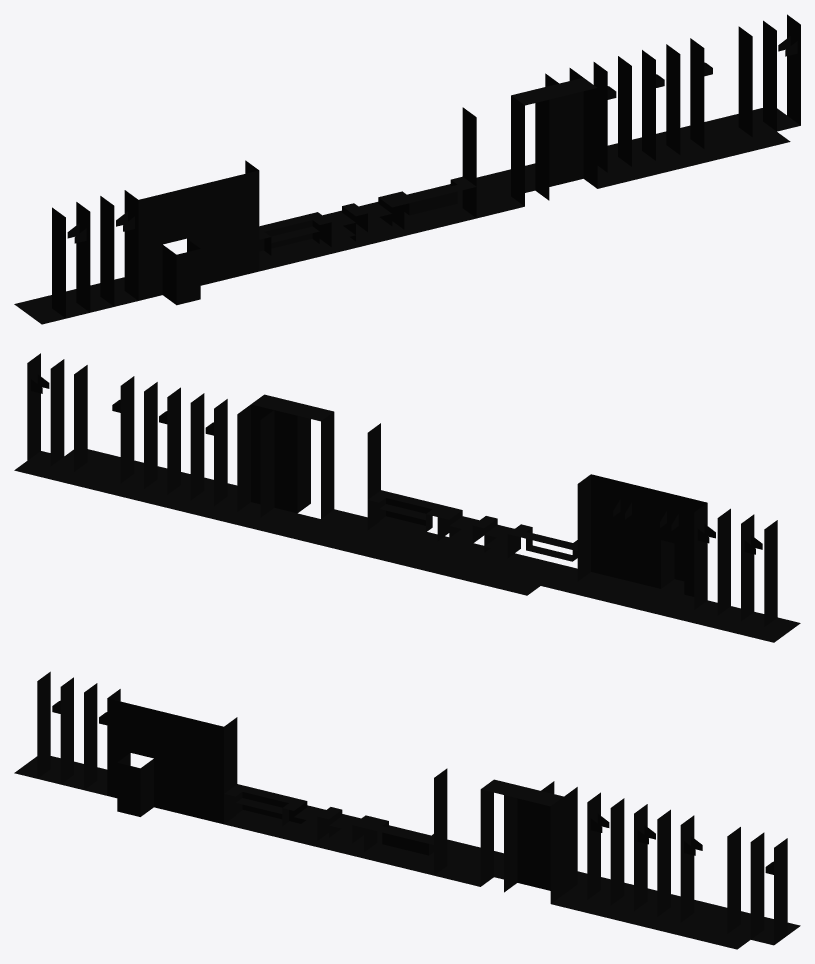
Rendered from catalog.obj.
The picture shows the model from 3 angles, top to bottom: view 1: azimuth 30°, elevation 25°; view 2: azimuth 150°, elevation 25°; view 3: azimuth 330°, elevation 25°; orthographic projection. The views are drawn at different scales.
Visible parts, largest first — view 1: cell_9_0, cell_27_0, cell_26_0, cell_10_0, cell_23_0, cell_24_0, cell_2_1, cell_25_0, cell_30_0, cell_3_1, cell_12_0, cell_31_0 (+18 smaller); view 2: cell_23_0, cell_10_0, cell_26_0, cell_24_0, cell_25_0, cell_27_0, cell_3_1, cell_31_0, cell_12_0, cell_7_1, cell_1_1, cell_2_1 (+20 smaller); view 3: cell_10_0, cell_23_0, cell_26_0, cell_9_0, cell_24_0, cell_25_0, cell_27_0, cell_3_1, cell_0_1, cell_6_1, cell_1_1, cell_7_1 (+18 smaller).
Boxes of the visible parts, x1,y1,x2,y2 form: cell_9_0: (559,77,597,188); cell_27_0: (124,190,162,300); cell_26_0: (162,188,200,305); cell_10_0: (535,83,572,200); cell_23_0: (235,160,259,277); cell_24_0: (211,176,234,283); cell_2_1: (715,26,752,143); cell_25_0: (187,182,210,285); cell_30_0: (66,202,90,318); cell_3_1: (690,38,727,149); cell_12_0: (487,95,524,212); cell_31_0: (28,207,65,324); cell_23_0: (577,474,614,587); cell_10_0: (274,400,310,513); cell_26_0: (648,491,684,604); cell_24_0: (601,480,637,592); cell_25_0: (624,485,660,598); cell_27_0: (671,497,707,609); cell_3_1: (97,376,134,483); cell_31_0: (764,520,800,632); cell_12_0: (321,412,356,524); cell_7_1: (191,399,227,505); cell_1_1: (50,359,73,471); cell_2_1: (74,365,110,477); cell_10_0: (504,785,540,892); cell_23_0: (200,717,237,824); cell_26_0: (117,704,153,816); cell_9_0: (527,791,563,903); cell_24_0: (177,715,200,818); cell_25_0: (154,709,177,812); cell_27_0: (107,689,130,798); cell_3_1: (680,815,716,928); cell_0_1: (751,838,787,945); cell_6_1: (610,798,633,911); cell_1_1: (728,832,764,939); cell_7_1: (587,792,610,905).
Size of the model in its own units: 0.5 by 0.0625 by 0.0625.
30 materials, 30 textured.
